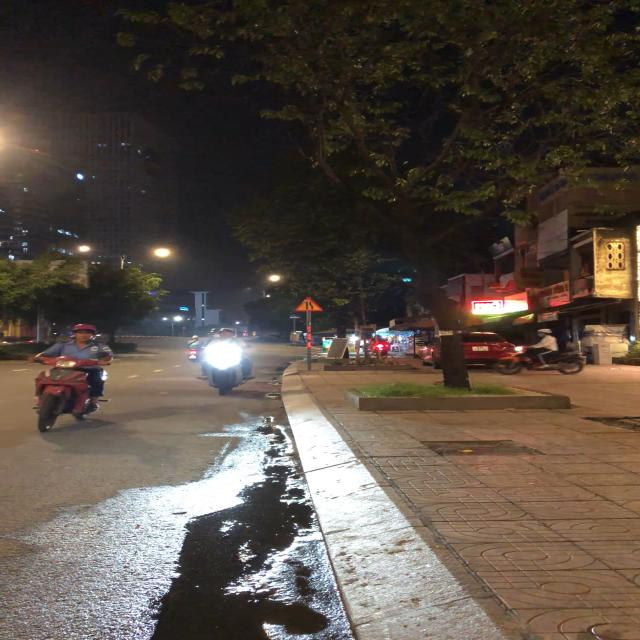Bien bao duong bi thu hep: (292, 296, 324, 313)
